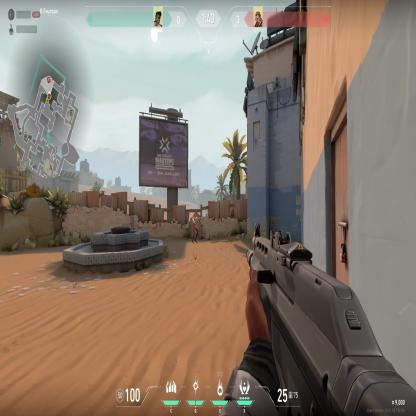enemy: (192, 213, 198, 244)
